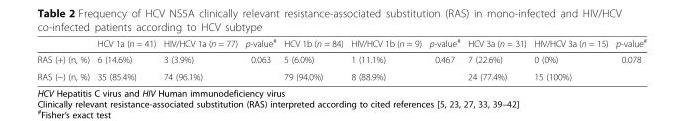table: (36, 36, 646, 81)
table column: (529, 36, 611, 81), (159, 36, 240, 81), (346, 36, 424, 81), (92, 36, 159, 81), (279, 36, 346, 81), (463, 36, 529, 81), (36, 36, 92, 81), (240, 36, 279, 81), (424, 36, 463, 81), (611, 36, 646, 81)
table column header: (36, 36, 646, 51)
table row: (36, 51, 646, 67), (36, 36, 646, 51), (36, 67, 646, 81)
